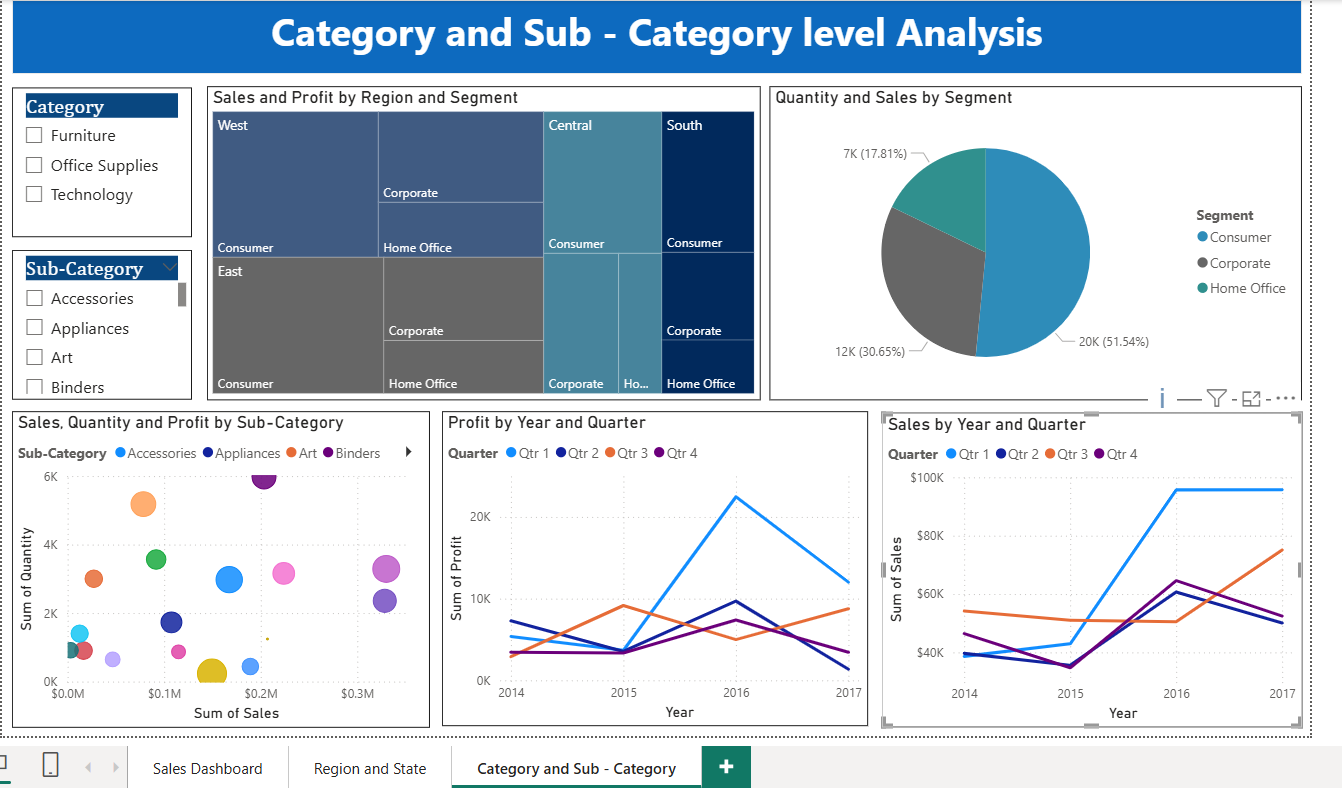

Layout of this report page (visuals, bound fields, positions):
{"tool":"powerbi","page":{"name":"Category and Sub - Category","canvas":[1280,720],"ordinal":2},"visuals":[{"type":"textbox","box":[9.8,0,1262,72.1],"z":0},{"type":"slicer","fields":{"Values":["Sample - Superstore.Category"]},"box":[9.8,85.6,176.1,146.7],"z":1000},{"type":"slicer","fields":{"Values":["Sample - Superstore.Sub-Category"]},"box":[9.8,244.6,176.1,146.7],"z":2000},{"type":"treemap","title":" Sales and Profit by Region and Segment","fields":{"Group":["Sample - Superstore.Region"],"Details":["Sample - Superstore.Segment"],"Values":["Sum(Sample - Superstore.Sales)"]},"box":[200.5,84.4,541.7,306.9],"z":3000},{"type":"pieChart","title":" Quantity and Sales by Segment","fields":{"Category":["Sample - Superstore.Segment"],"Y":["Sum(Sample - Superstore.Quantity)"]},"box":[750.8,84.4,520.9,306.9],"z":4000},{"type":"scatterChart","title":"Sales, Quantity and Profit by Sub-Category","fields":{"Size":["Sum(Sample - Superstore.Profit)"],"X":["Sum(Sample - Superstore.Sales)"],"Series":["Sample - Superstore.Sub-Category"],"Y":["Sum(Sample - Superstore.Quantity)"]},"box":[9.8,402.3,408.4,309.4],"z":5000},{"type":"lineChart","title":"Profit by Year and Quarter","fields":{"Category":["Sample - Superstore.Year"],"Series":["Sample - Superstore.Quarter"],"Y":["Sum(Sample - Superstore.Profit)"]},"box":[430.4,402.3,417,308.2],"z":6000},{"type":"lineChart","title":" Sales by Year and Quarter","fields":{"Category":["Sample - Superstore.Year"],"Series":["Sample - Superstore.Quarter"],"Y":["Sum(Sample - Superstore.Sales)"]},"box":[860.9,403.5,410.9,308.2],"z":7000}]}

Visuals, with their boxes in screenshot pixels (x1, y1, x2, y2):
textbox: {"left": 0, "top": 0, "right": 1304, "bottom": 71}
slicer - Sample - Superstore.Category: {"left": 0, "top": 85, "right": 182, "bottom": 237}
slicer - Sample - Superstore.Sub-Category: {"left": 0, "top": 249, "right": 182, "bottom": 401}
" Sales and Profit by Region and Segment" treemap: {"left": 197, "top": 84, "right": 757, "bottom": 401}
" Quantity and Sales by Segment" pieChart: {"left": 766, "top": 84, "right": 1304, "bottom": 401}
"Sales, Quantity and Profit by Sub-Category" scatterChart: {"left": 0, "top": 412, "right": 422, "bottom": 732}
"Profit by Year and Quarter" lineChart: {"left": 435, "top": 412, "right": 866, "bottom": 731}
" Sales by Year and Quarter" lineChart: {"left": 880, "top": 414, "right": 1304, "bottom": 732}
